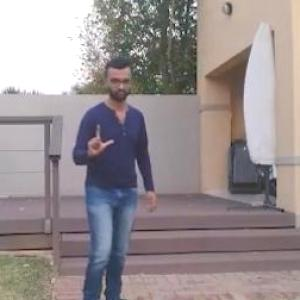land_hand: (81, 116, 117, 160)
